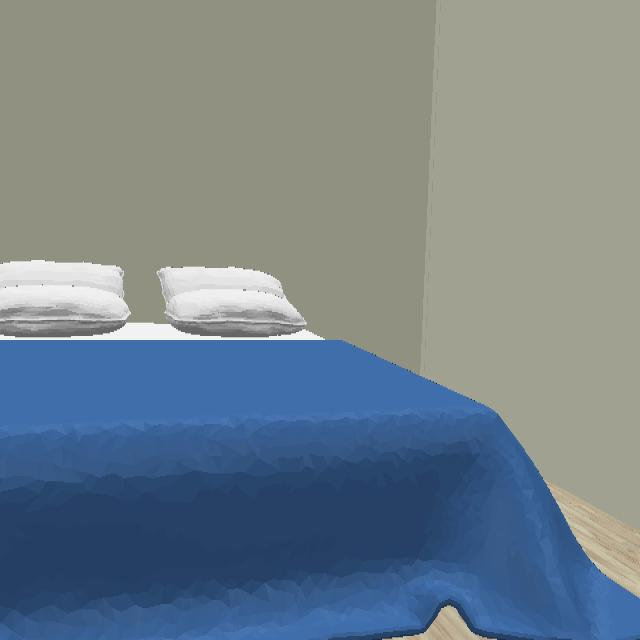bed: (0, 265, 640, 640)
pillow: (156, 267, 307, 339), (0, 260, 132, 340)
